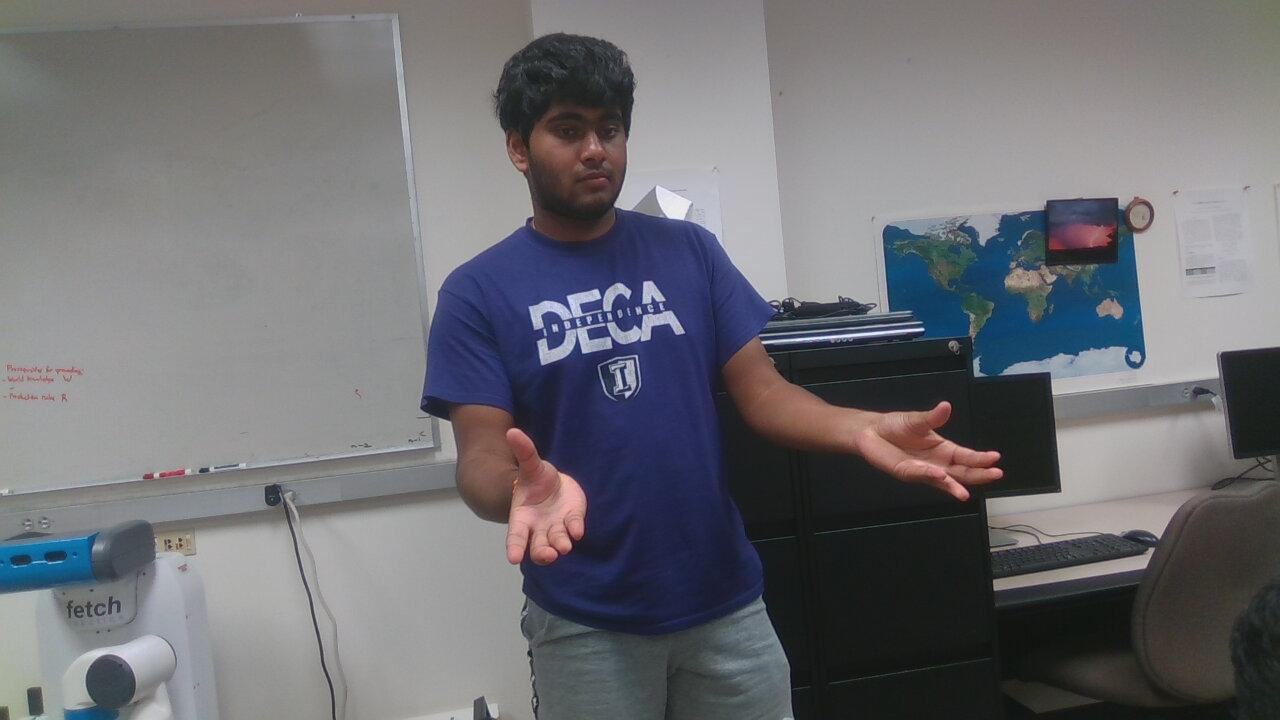hands: (861, 394, 1019, 518), (491, 422, 612, 583)
